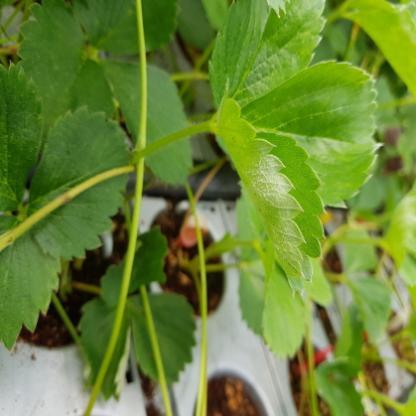Strawberry_Powdery_Mildew_Leaf: (210, 78, 325, 296)
